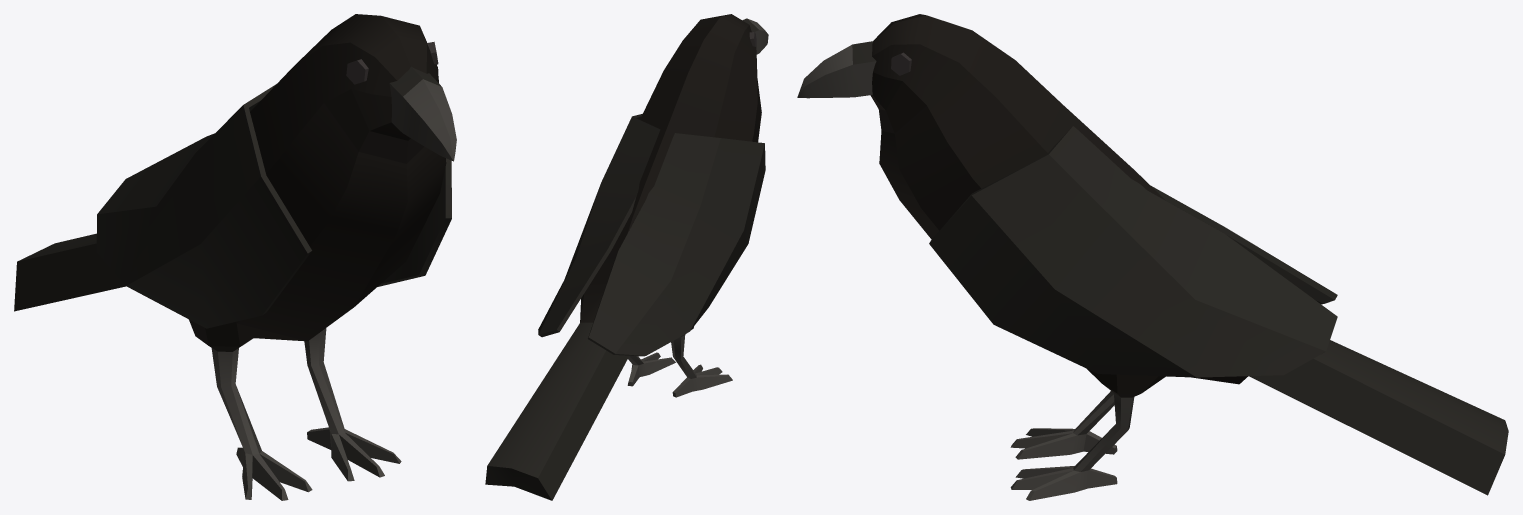
File: Mesh_Raven.obj
The picture shows the model from 3 angles, left to right: view 1: azimuth 30°, elevation 25°; view 2: azimuth 150°, elevation 25°; view 3: azimuth 270°, elevation 25°; orthographic projection. The views are drawn at different scales.
Parts seen in each view (by area): view 1: Geo_Raven; view 2: Geo_Raven; view 3: Geo_Raven.
Part boxes in pixels (x1,y1,x2,y2): Geo_Raven: (14, 14, 456, 500); Geo_Raven: (485, 14, 768, 500); Geo_Raven: (797, 14, 1508, 500).
Bounding box in the file's own units: 23.03 × 51.87 × 73.12.
Materials: 1 (1 with a texture image).
